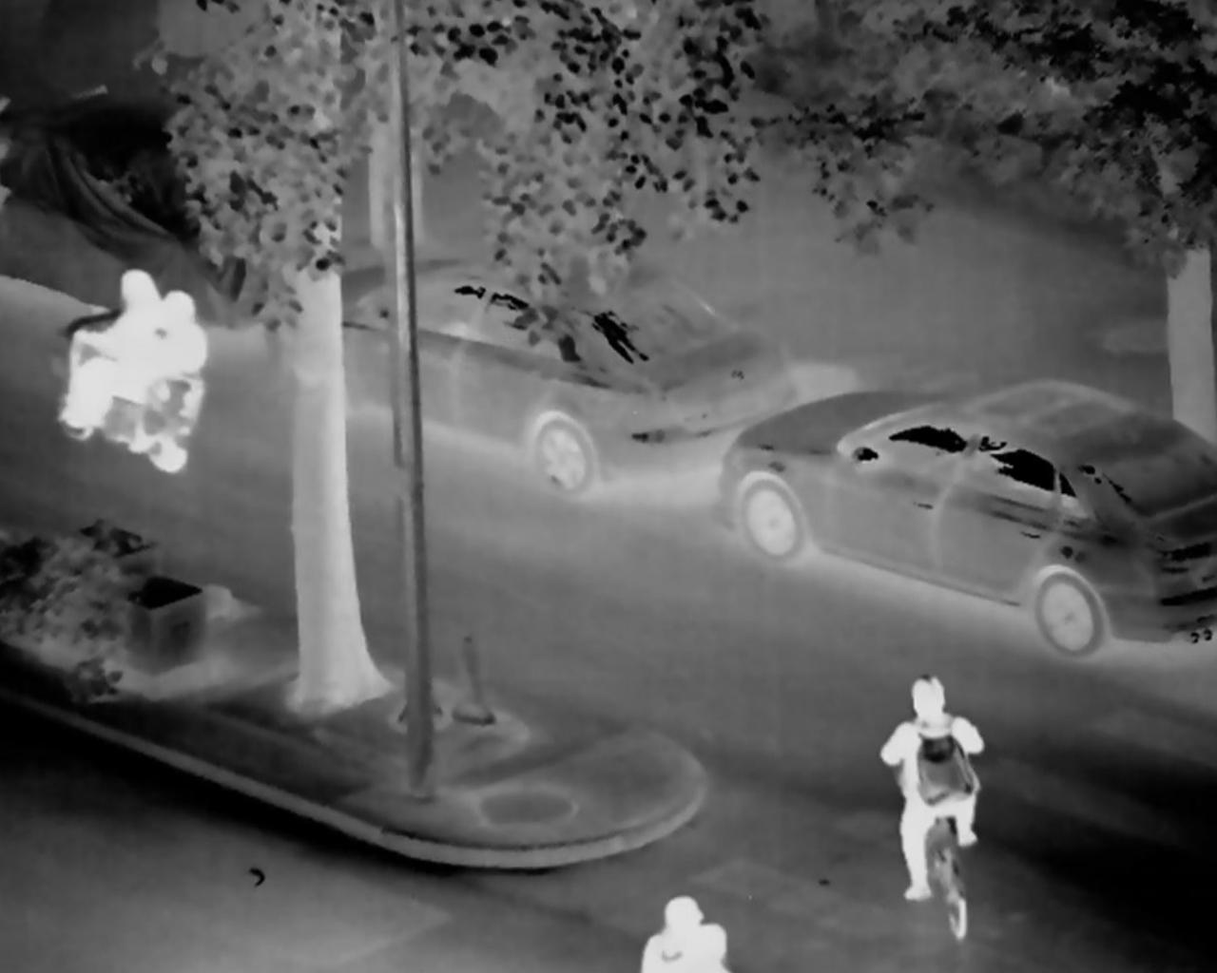person: (877, 673, 987, 902), (57, 268, 212, 427), (639, 889, 731, 973)
